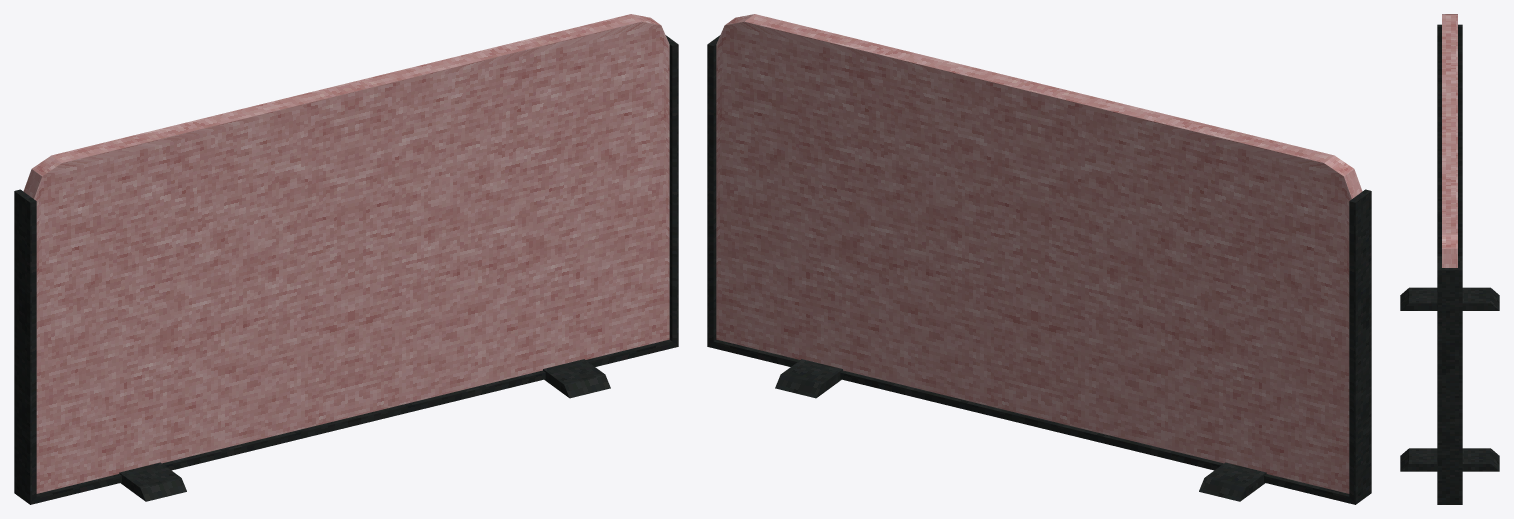
The model's file is divider_black_red_low.glb.
3 renders of one model, left to right at view 1: azimuth 30°, elevation 25°; view 2: azimuth 150°, elevation 25°; view 3: azimuth 270°, elevation 25°, orthographic. The views are drawn at different scales.
Visible parts, largest first — view 1: divider_black_red_low; view 2: divider_black_red_low; view 3: divider_black_red_low.
Boxes of the visible parts, x1,y1,x2,y2 form: divider_black_red_low: [14, 14, 678, 504]; divider_black_red_low: [707, 14, 1371, 504]; divider_black_red_low: [1400, 14, 1499, 504].
Size of the model in its own units: 3.06 by 1.5 by 0.523.
1 material, 1 textured.
